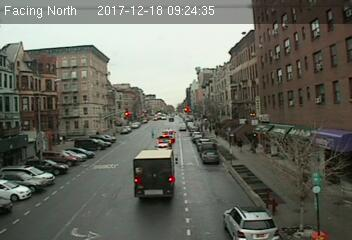car: (222, 204, 278, 240), (200, 150, 216, 163)
ups: (132, 147, 179, 202)
